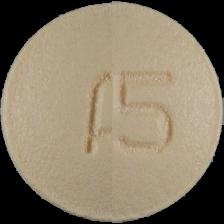50268-712: (0, 0, 224, 224)
